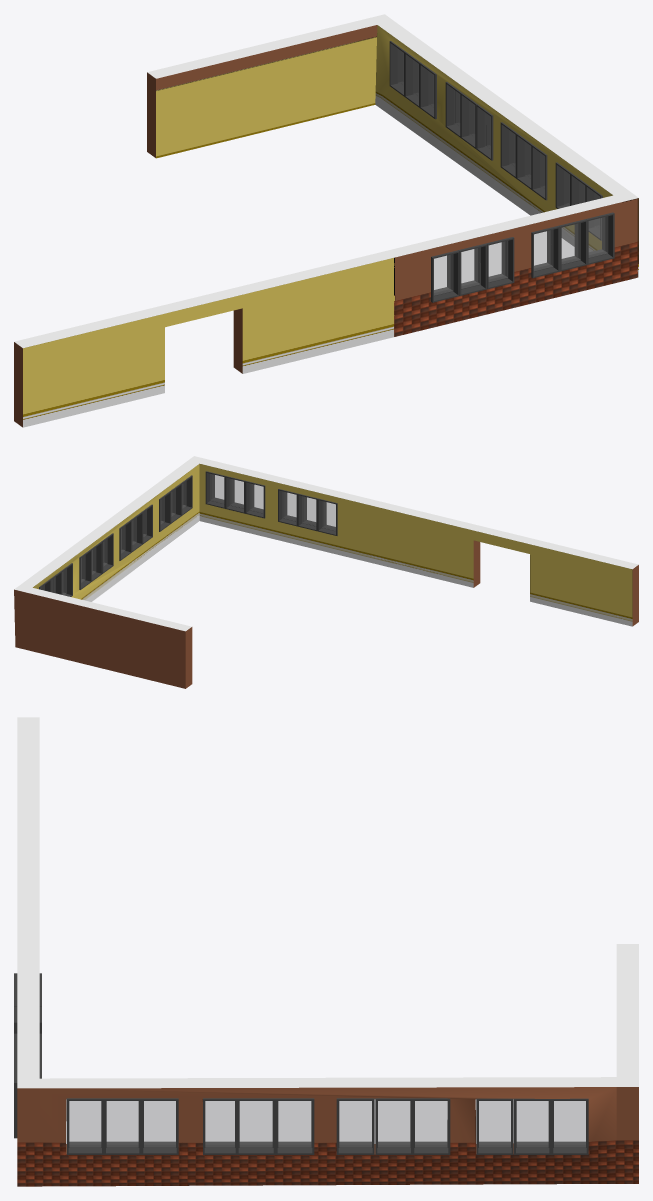
File: School Cafe V3.fbx
3 renders of one model, top to bottom at view 1: azimuth 30°, elevation 25°; view 2: azimuth 150°, elevation 25°; view 3: azimuth 270°, elevation 25°, orthographic. The views are drawn at different scales.
Visible parts, largest first — view 1: Cafe_Combined; view 2: Cafe_Combined; view 3: Cafe_Combined.
Part boxes in pixels (bbox=[...]): Cafe_Combined: bbox=[14, 14, 638, 427]; Cafe_Combined: bbox=[14, 456, 638, 688]; Cafe_Combined: bbox=[14, 717, 638, 1186].
Bounding box in the file's own units: 3879 × 478 × 2755.
5 materials, 3 textured.
